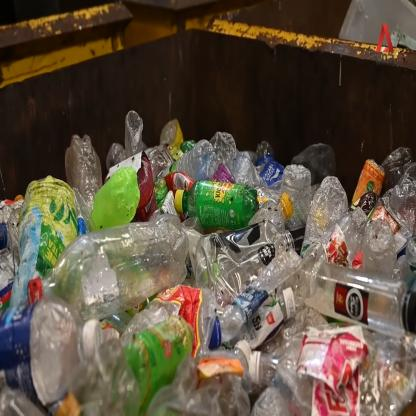Glass Bottle: (26, 214, 187, 322), (0, 299, 104, 410), (301, 250, 416, 340), (204, 246, 304, 349), (113, 317, 196, 416), (173, 179, 260, 230), (300, 175, 349, 260), (88, 166, 140, 233), (64, 132, 103, 208), (160, 139, 218, 184), (361, 220, 396, 286), (127, 153, 159, 225), (280, 163, 312, 234), (350, 157, 386, 219), (247, 190, 294, 232), (125, 108, 144, 160)
